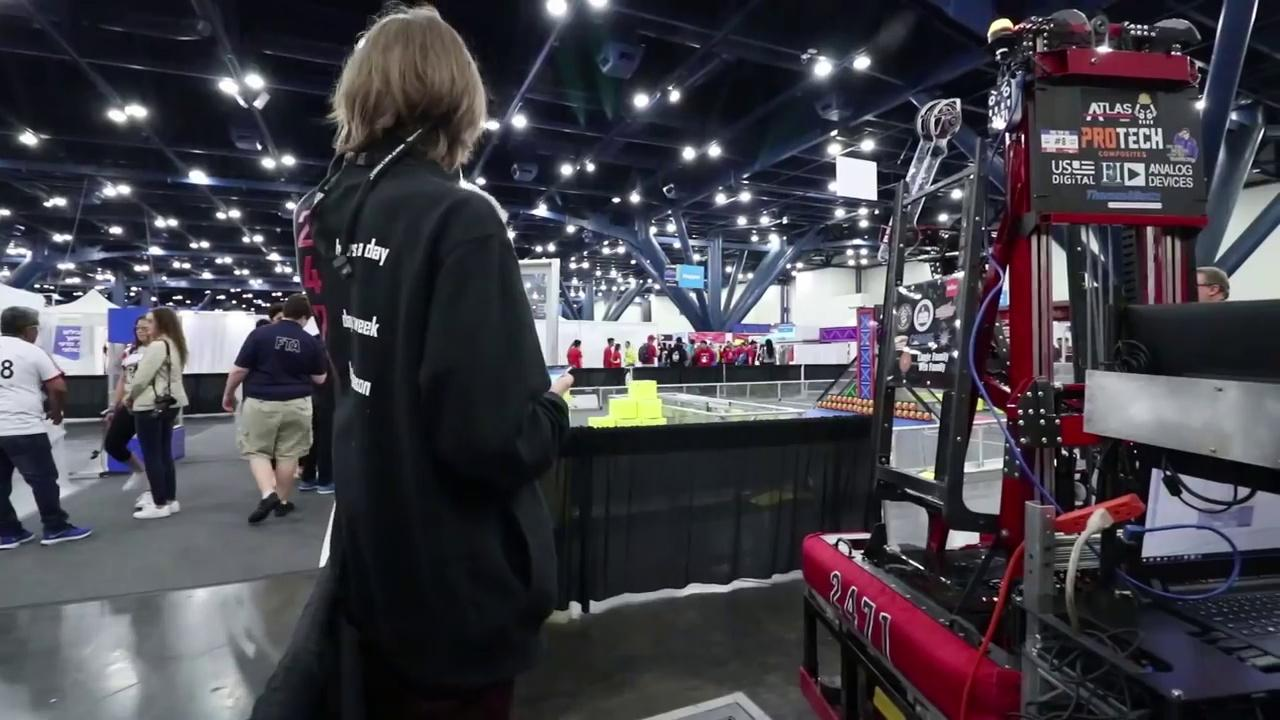robot: (791, 4, 1277, 720)
